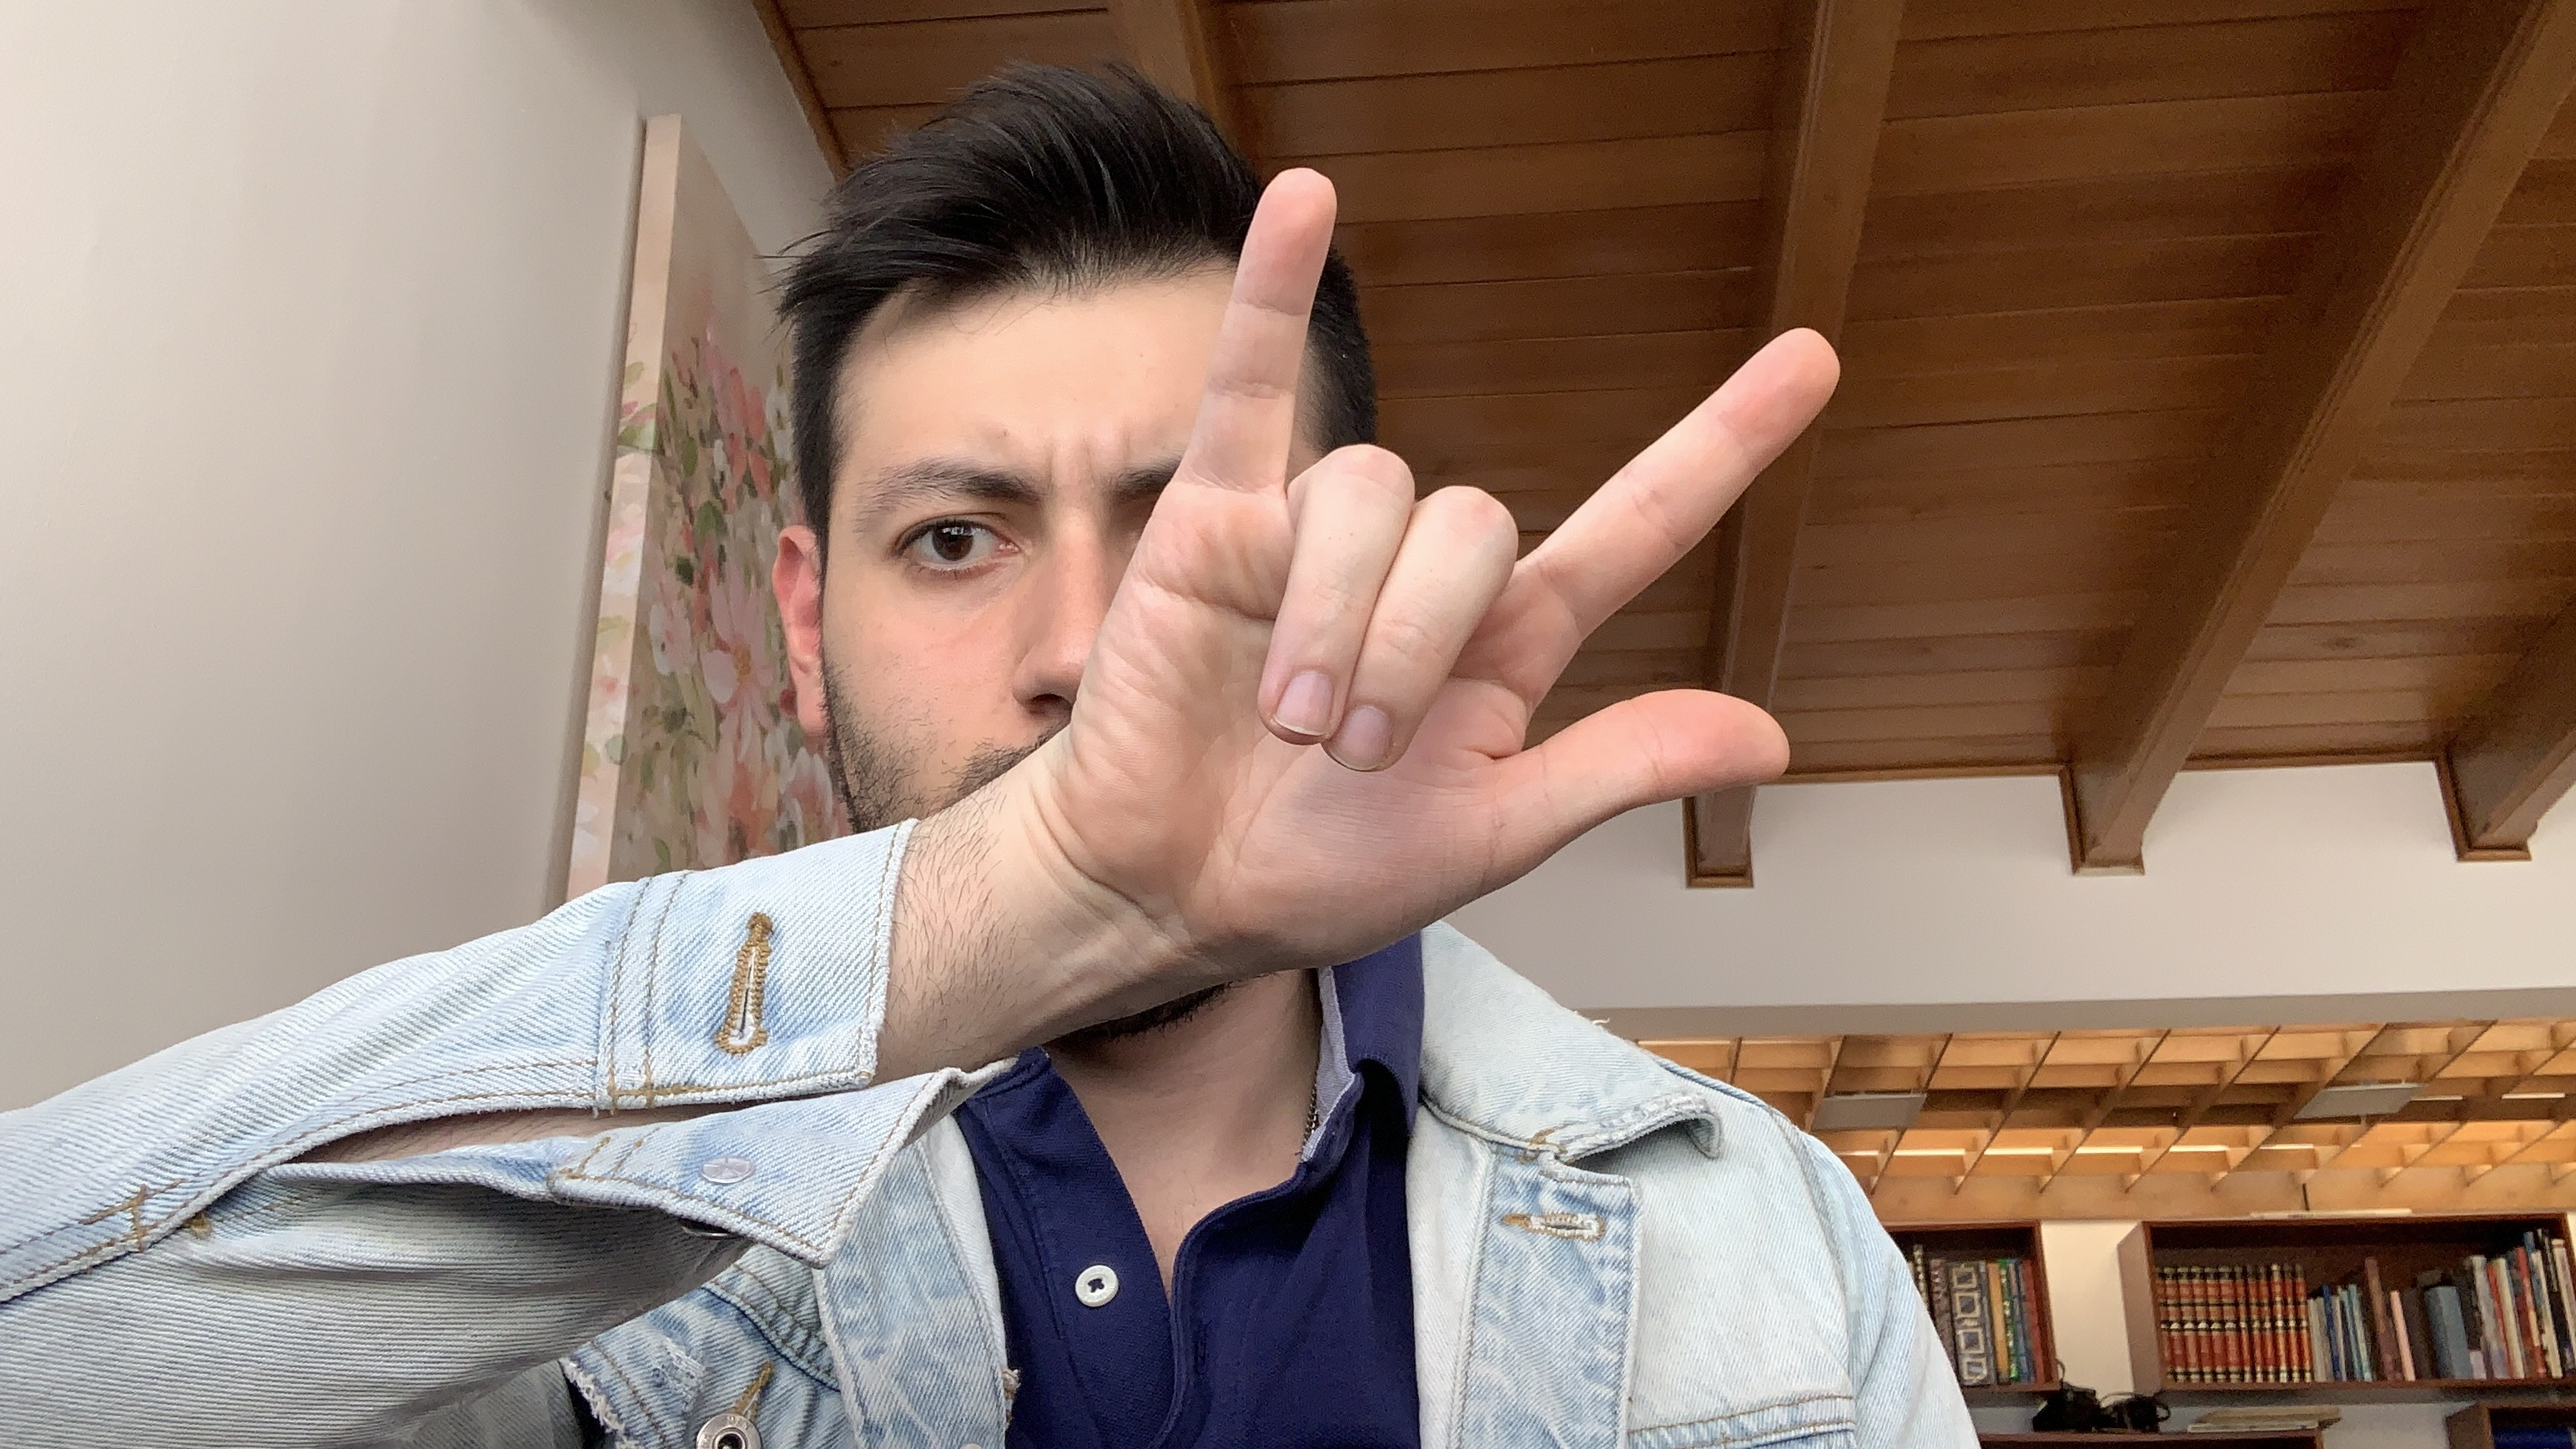I Love You: (1063, 150, 1851, 993)
